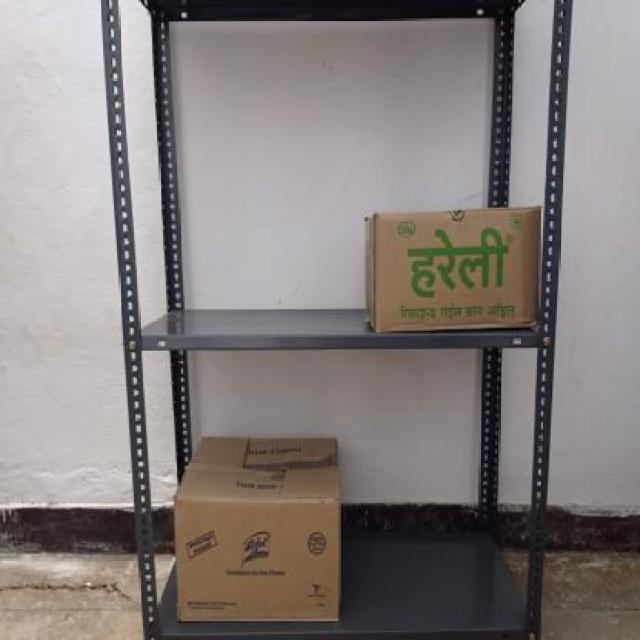box: (369, 213, 543, 330), (175, 500, 341, 622)
